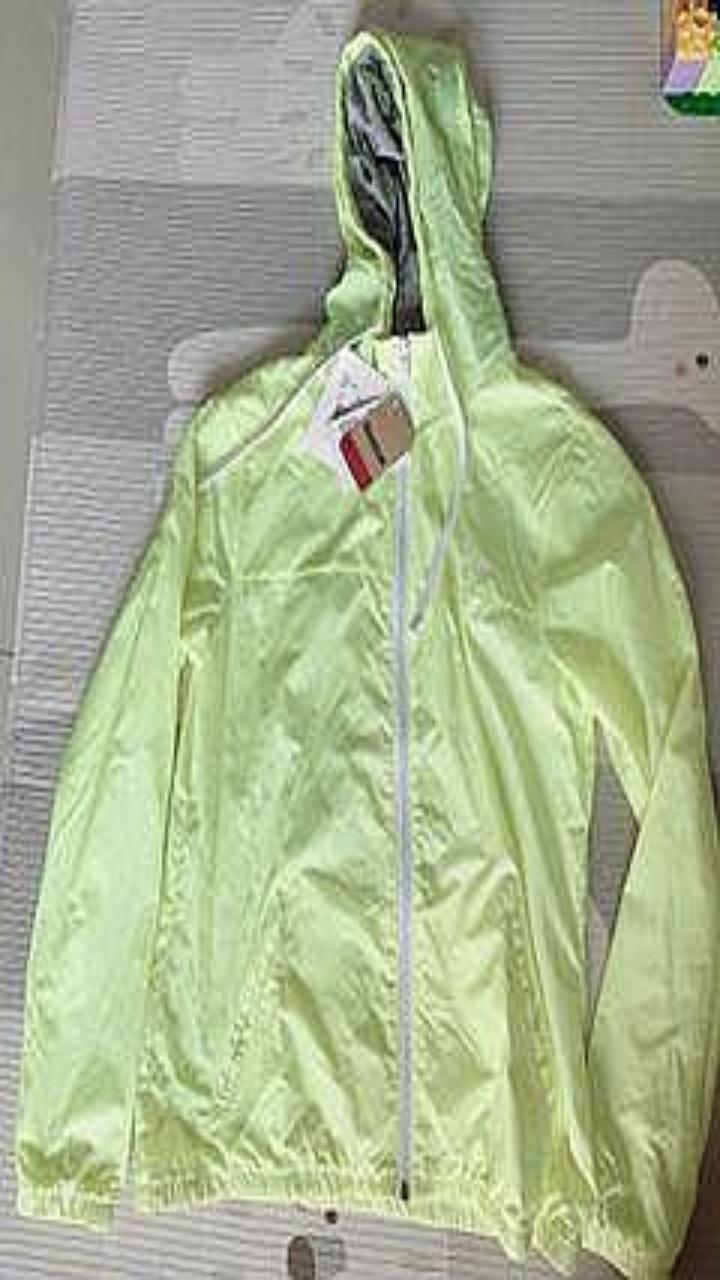Sports_Jacket: (15, 26, 719, 1279)
